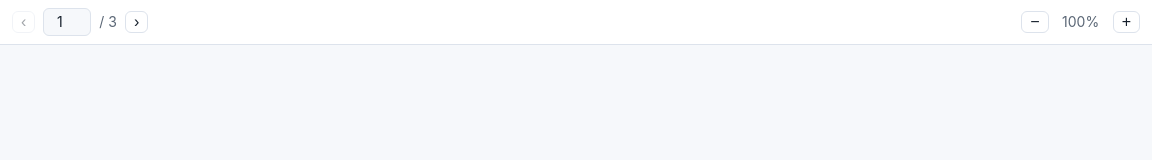
Test: PdfViewer › advances to the next page when Next is clicked
Check: the number field named "Current page" is shown, box x1=43 y1=8 x2=91 y2=36
Click the button named "Next page". click: coordinates (137, 22)
box: x1=125 y1=11 x2=148 y2=33
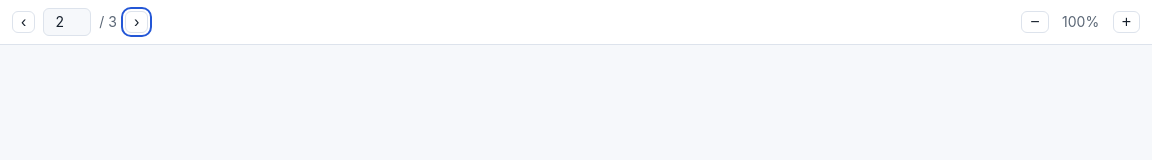
Check: the number field named "Current page" holds "2", box x1=43 y1=8 x2=91 y2=36
